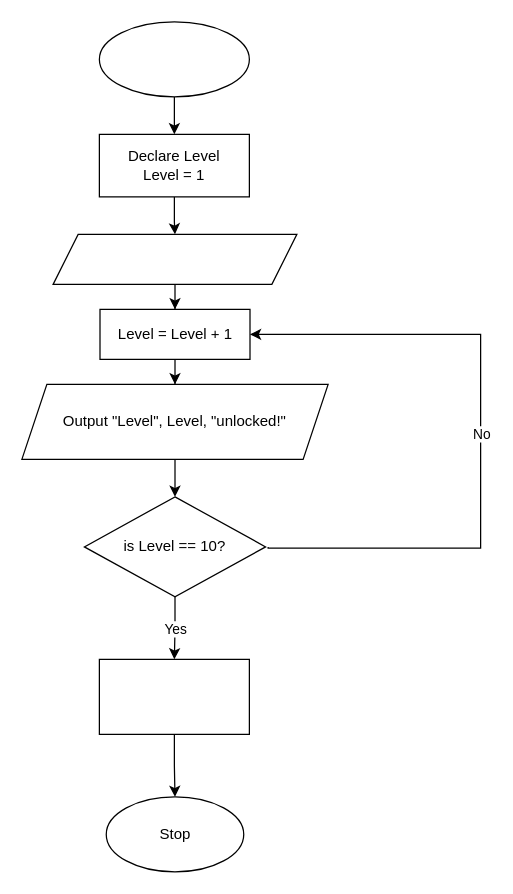
Some shapes in this 513 by 894 pixel diagram are drawn without their labels. Each missing label, with the centre of its shape:
Congratulations, you finished the game!: point 173,696
Output "You are at Level 1!: point 174,258
Start: point 173,59
